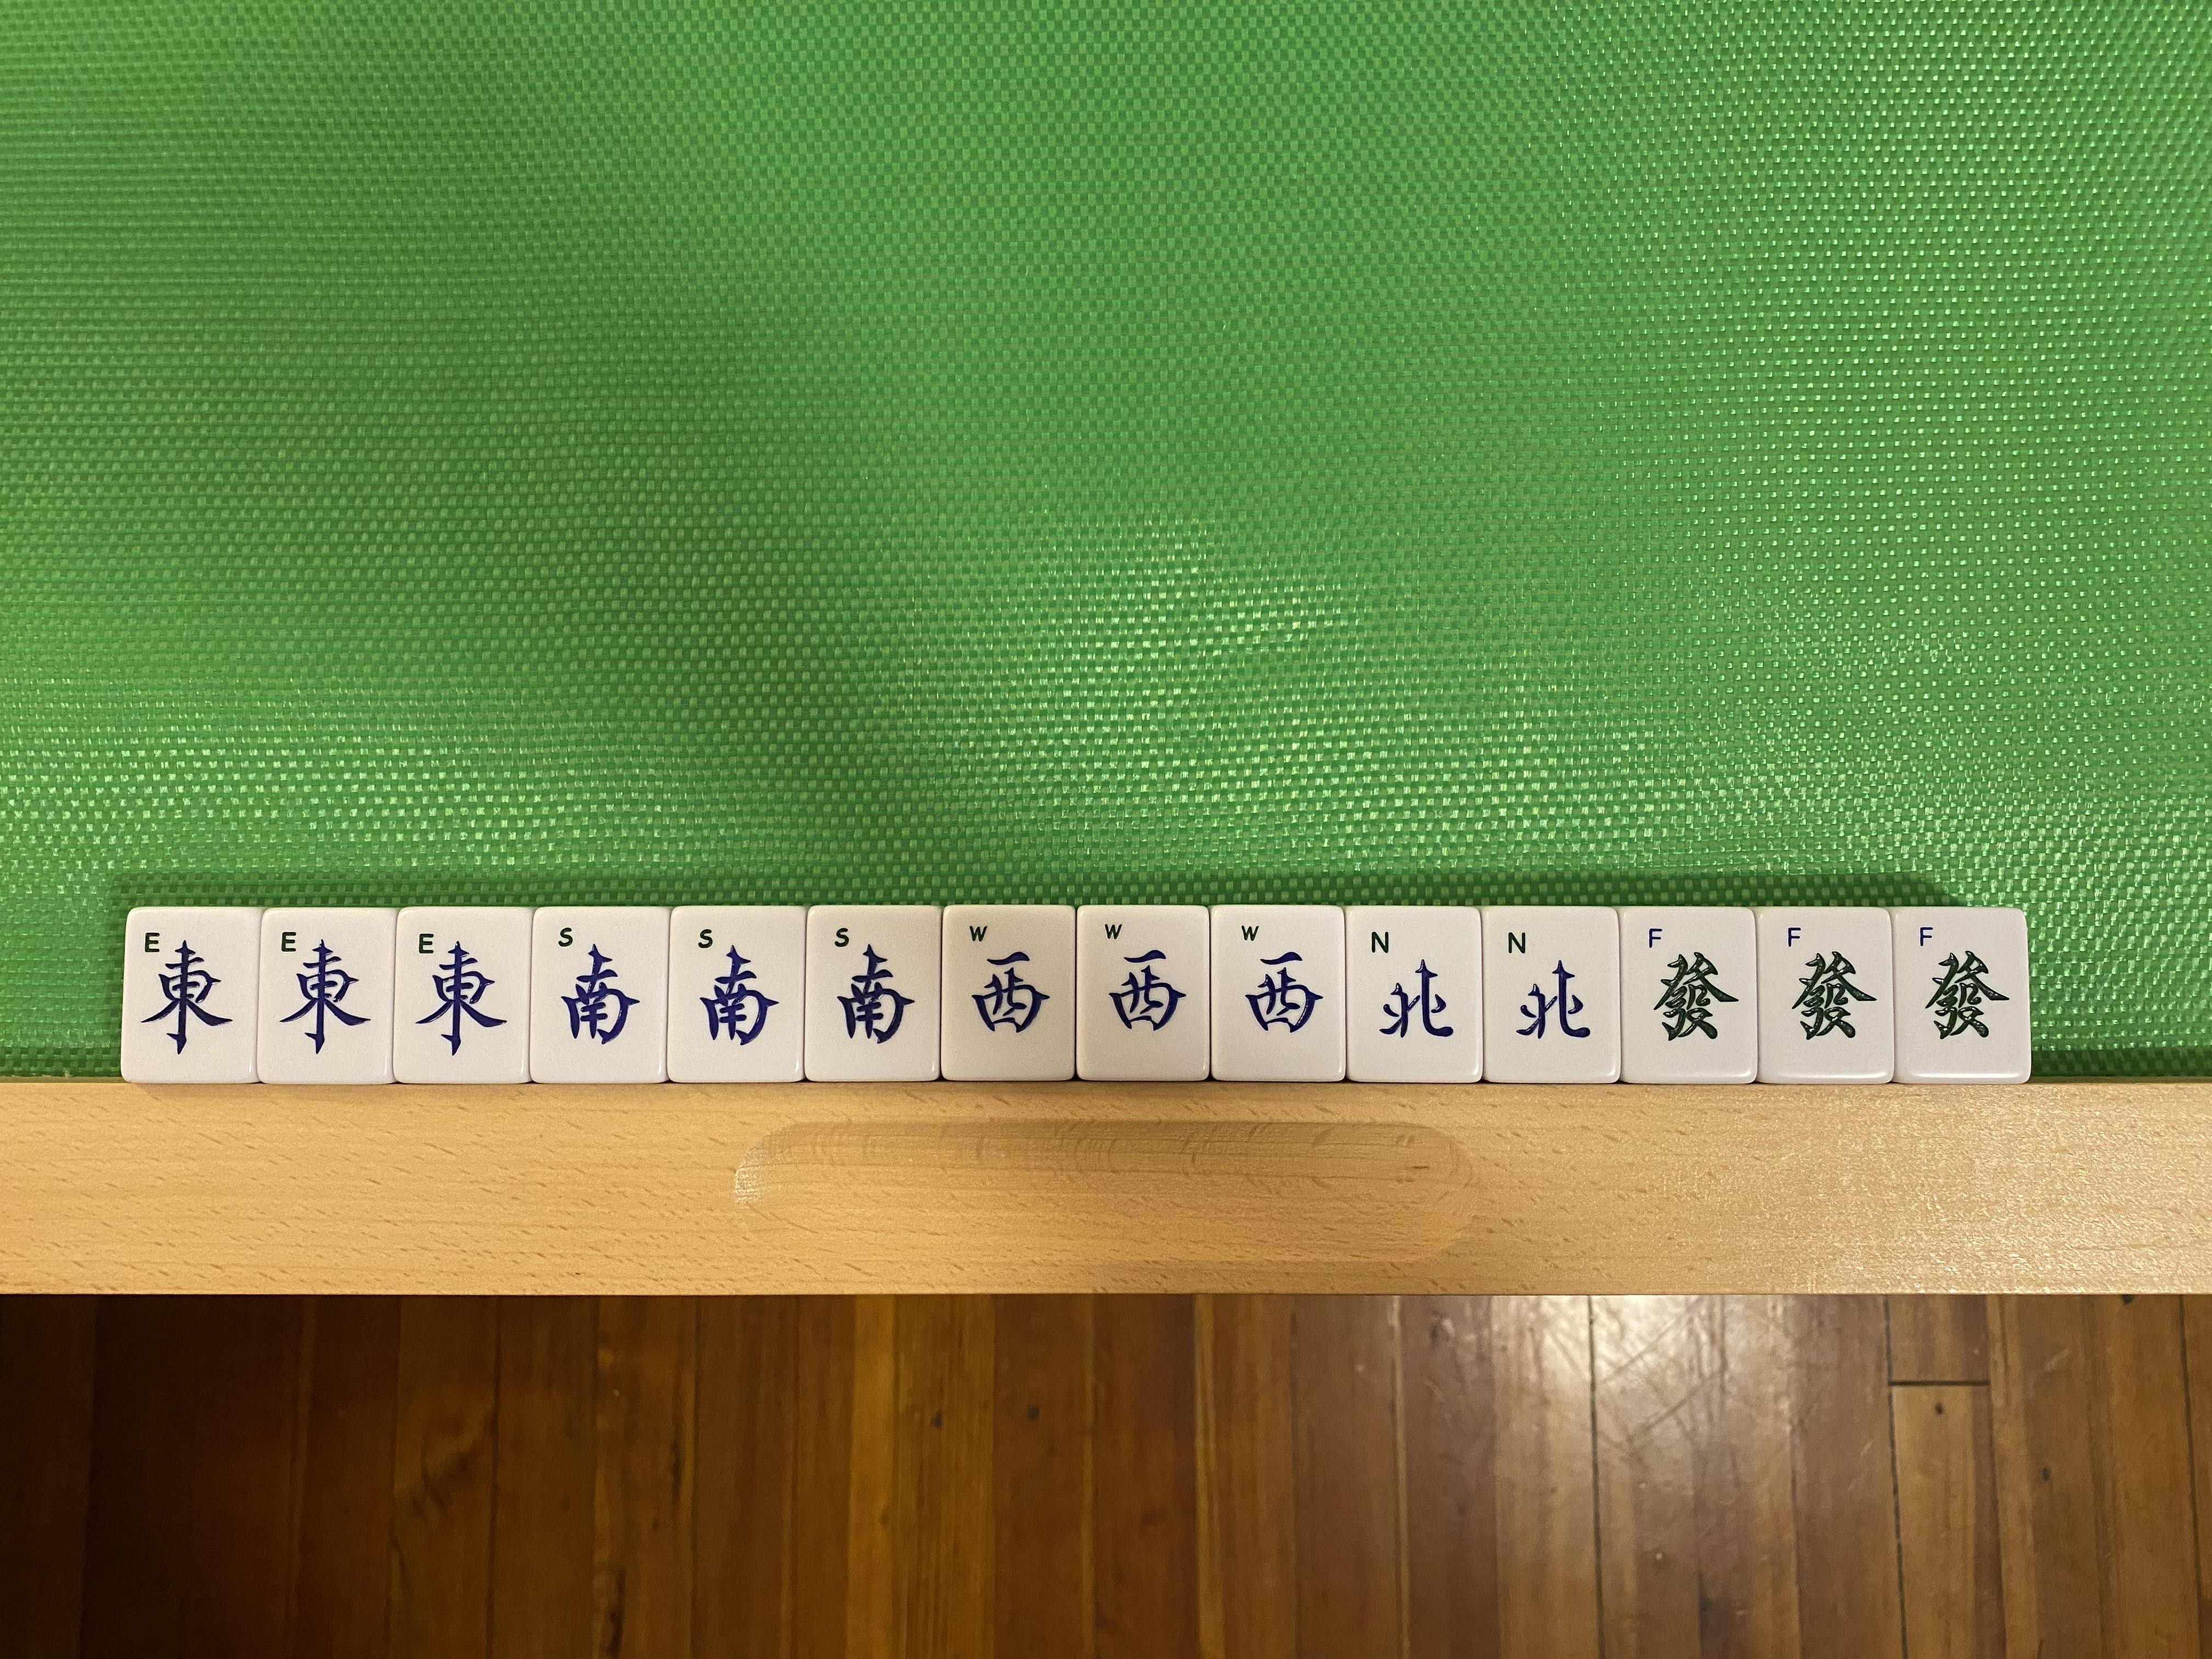honor-east_wind: (260, 911, 394, 1080), (397, 910, 528, 1080), (127, 911, 254, 1080)
honor-green_dragon: (1623, 910, 1756, 1084), (1763, 910, 1890, 1080), (1900, 910, 2024, 1079)
honor-north_wind: (1348, 908, 1477, 1080), (1489, 911, 1618, 1080)
honor-south_wind: (803, 910, 937, 1082), (669, 908, 799, 1080), (533, 911, 662, 1079)
honor-west_wind: (1078, 904, 1209, 1079), (942, 908, 1073, 1079), (1216, 908, 1343, 1079)
